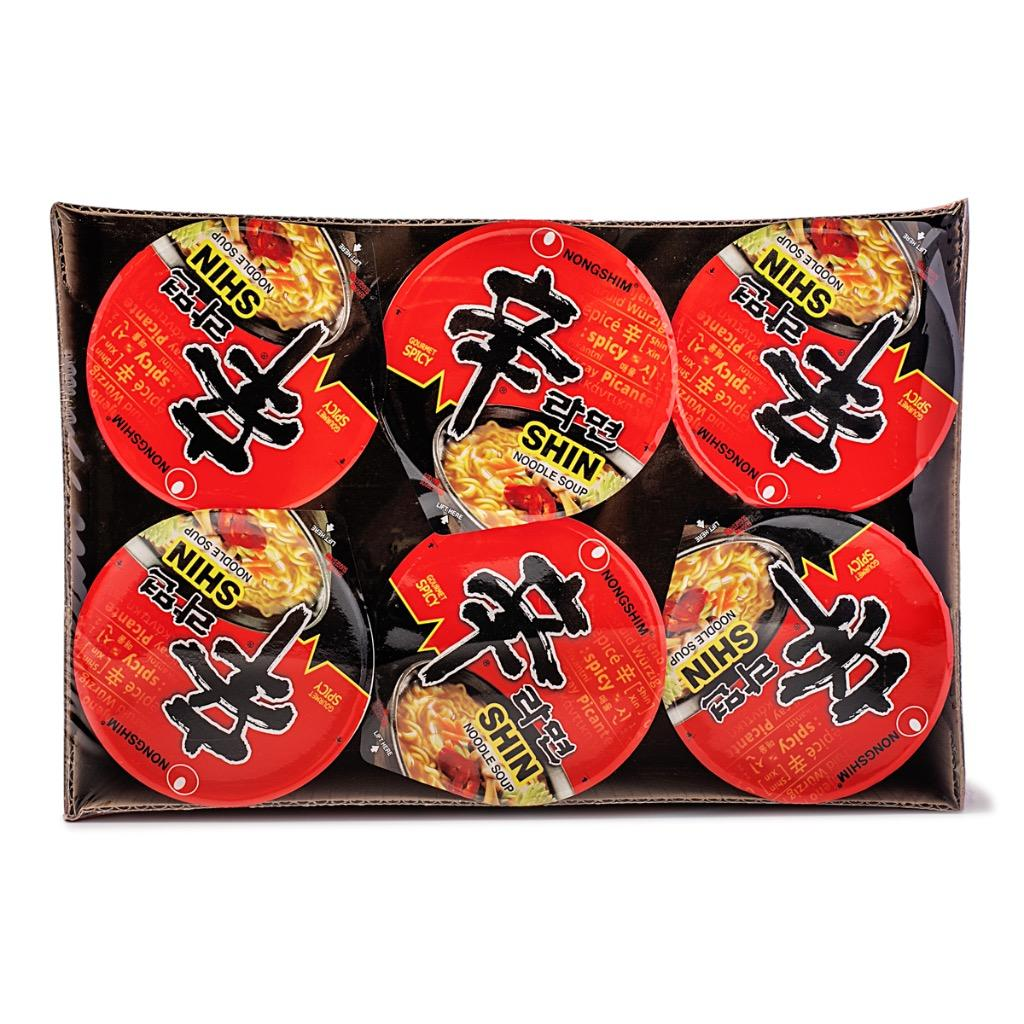instant_noodle: (65, 513, 379, 813), (663, 501, 957, 812), (367, 513, 669, 810), (87, 221, 382, 505), (381, 223, 670, 510), (671, 227, 955, 515)
